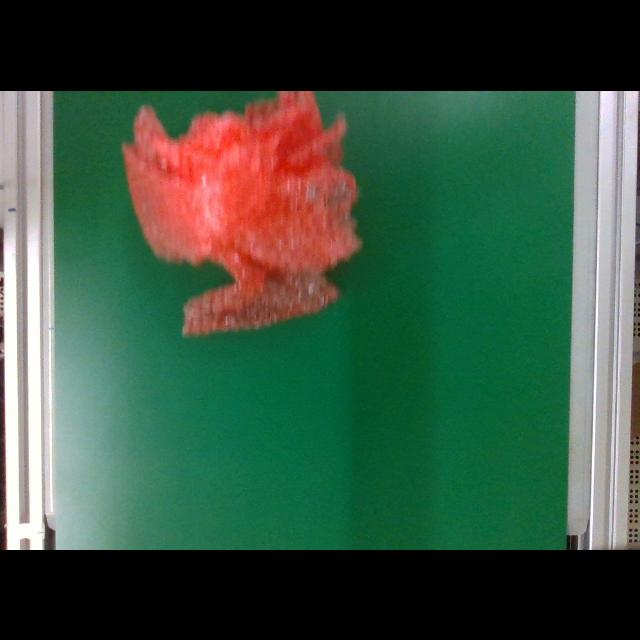scrap_plastic: (122, 92, 364, 338)
